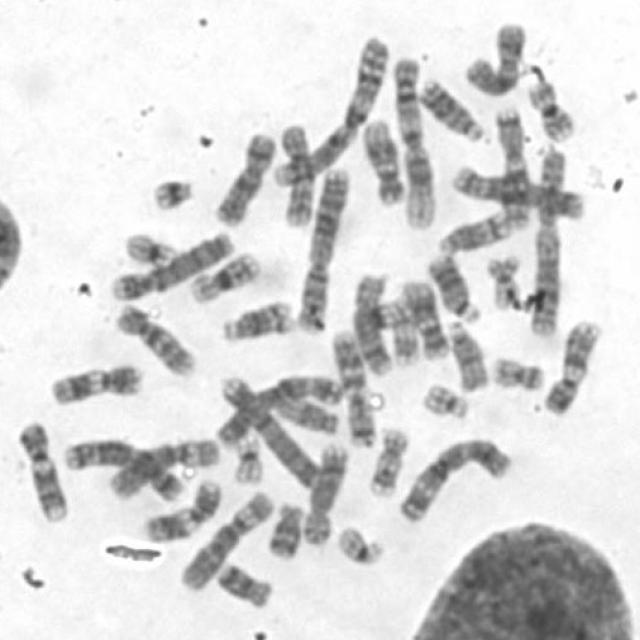A1: (269, 32, 391, 191), (390, 52, 438, 231)
A2: (294, 162, 352, 335), (530, 148, 569, 339)
A3: (393, 434, 515, 526), (213, 370, 344, 450)
B4: (216, 369, 322, 489), (107, 226, 236, 302)
B5: (58, 433, 186, 502), (448, 160, 587, 220)
C10: (111, 299, 198, 379), (274, 119, 315, 230)
C11: (138, 475, 224, 545), (46, 358, 144, 406)
C12: (401, 277, 453, 362), (359, 114, 406, 208)
C6: (174, 487, 274, 592), (104, 434, 222, 501)
C7: (326, 323, 377, 448), (490, 102, 532, 232)
C8: (299, 439, 349, 546), (348, 267, 394, 378)
C9: (538, 314, 604, 416), (14, 417, 69, 524)
D13: (415, 74, 488, 145), (422, 250, 482, 324)
D14: (433, 205, 511, 256), (218, 295, 296, 344)
D15: (441, 316, 491, 394), (270, 384, 340, 438)
E16: (185, 249, 263, 305), (522, 76, 577, 142)
E17: (363, 423, 410, 500), (388, 292, 422, 365)
E18: (214, 560, 273, 610), (263, 497, 307, 562)
F19: (120, 227, 178, 270), (230, 431, 266, 484)
F20: (487, 351, 546, 392), (483, 250, 522, 312)
G21: (146, 173, 196, 213), (369, 296, 405, 332)
G22: (334, 521, 386, 567), (417, 379, 472, 419)
X: (209, 127, 278, 227), (459, 18, 529, 98)
